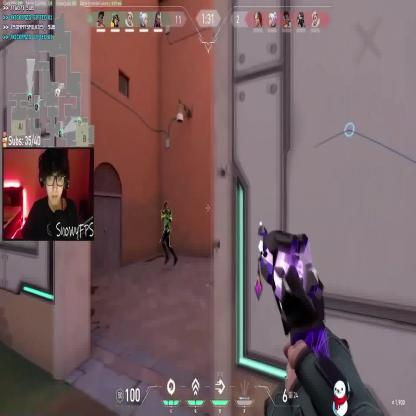enemy: (160, 200, 178, 266)
enemy_head: (164, 200, 168, 211)
